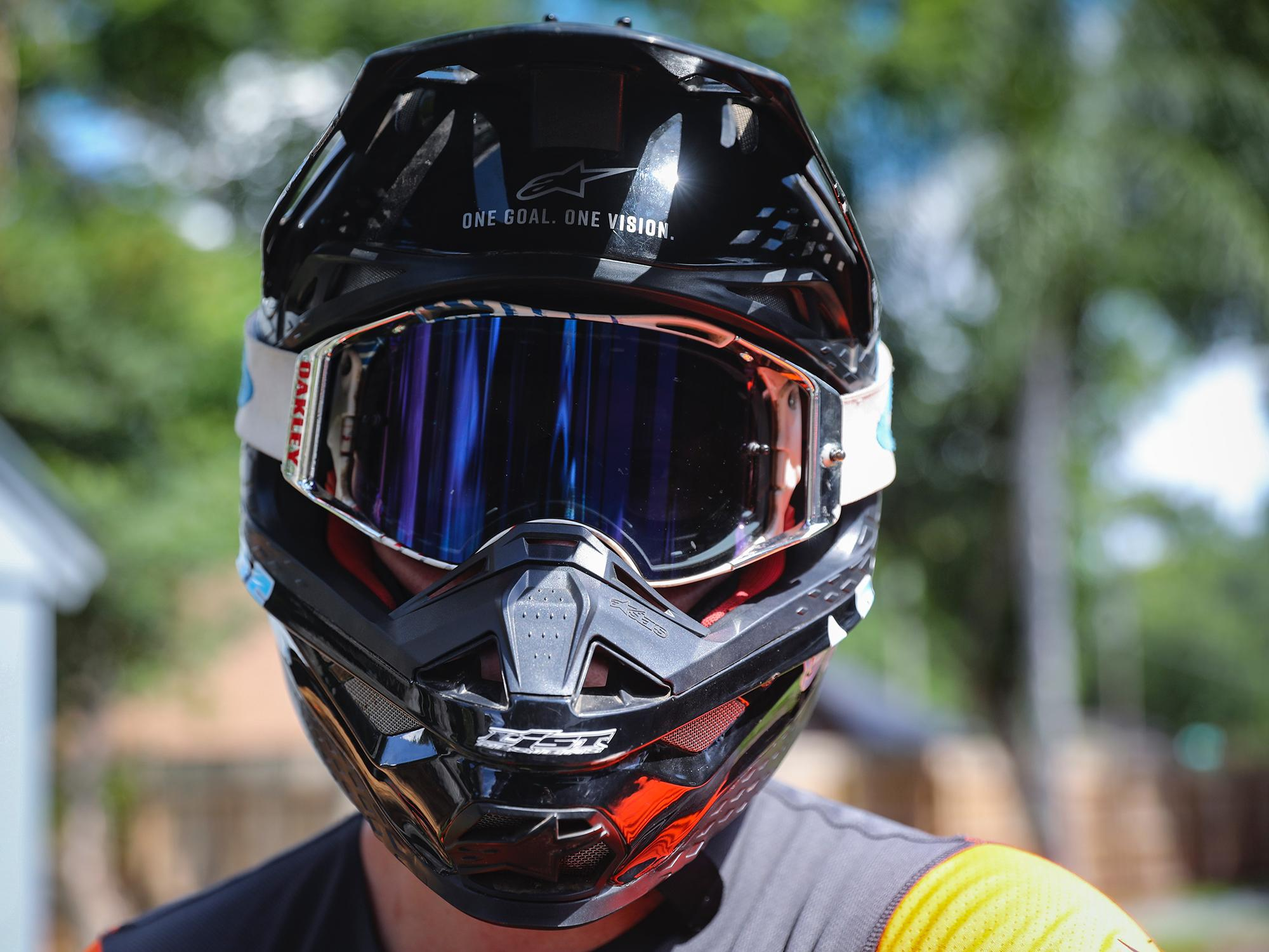helmet: (230, 7, 901, 938)
